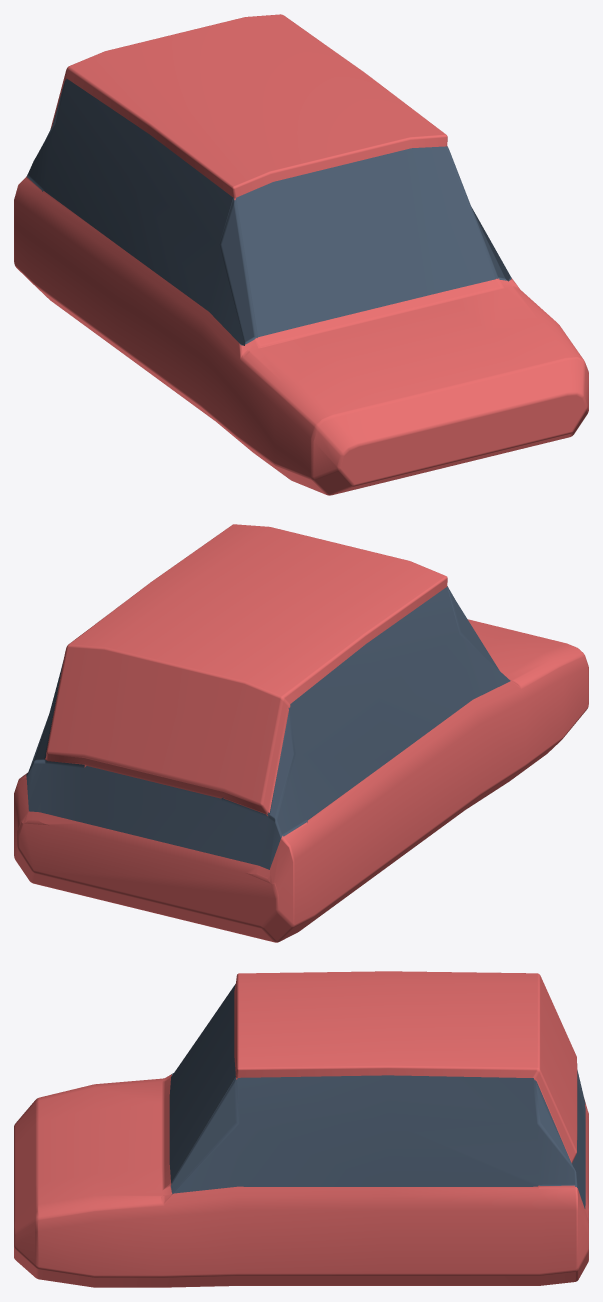
File: kancil_shell.fbx
3 views of the same model, one above another, from view 1: azimuth 30°, elevation 25°; view 2: azimuth 150°, elevation 25°; view 3: azimuth 270°, elevation 25° (orthographic). The views are drawn at different scales.
Parts seen in each view (by area): view 1: ShellBody, ShellGlass; view 2: ShellBody, ShellGlass; view 3: ShellBody, ShellGlass.
Part boxes in pixels (x1,y1,x2,y2): ShellBody: (14, 14, 588, 495); ShellGlass: (27, 78, 511, 345); ShellBody: (14, 524, 588, 942); ShellGlass: (26, 586, 510, 869); ShellBody: (14, 971, 588, 1287); ShellGlass: (169, 984, 585, 1208).
Bounding box in the file's own units: 6.6 × 5.25 × 12.5.
